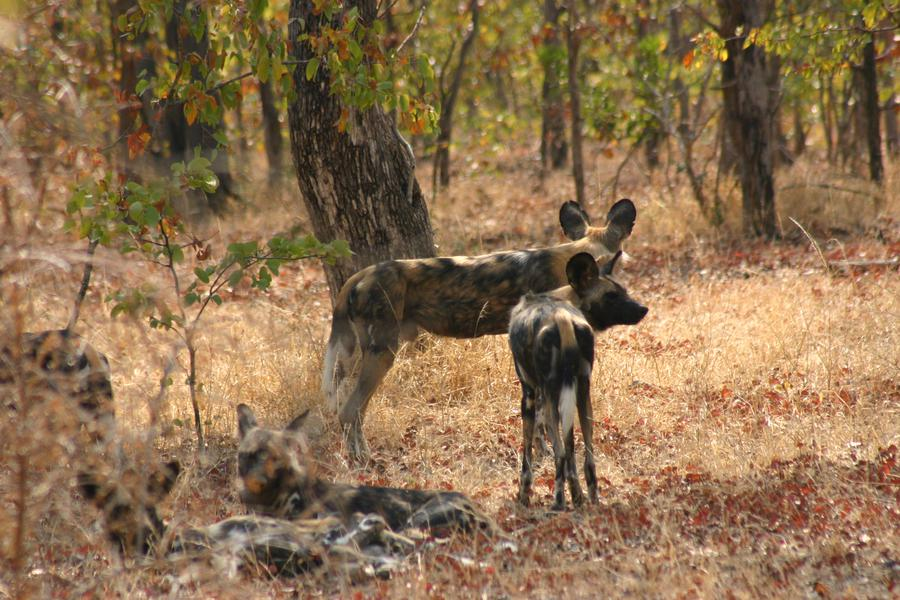wilddog: (342, 240, 515, 412), (84, 484, 408, 573), (522, 275, 627, 496), (226, 407, 321, 497)
